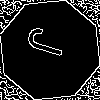J: (25, 25, 77, 62)
